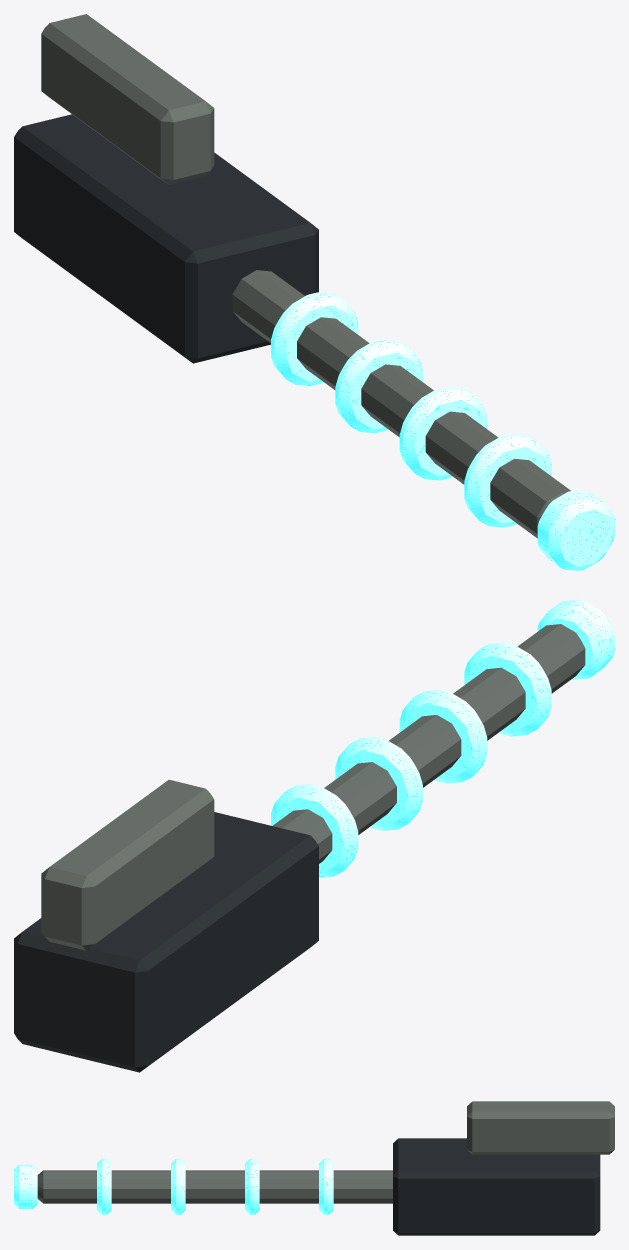
Rendered from Gun_PulseLaser.fbx.
The picture shows the model from 3 angles, top to bottom: view 1: azimuth 30°, elevation 25°; view 2: azimuth 150°, elevation 25°; view 3: azimuth 270°, elevation 25°; orthographic projection. The views are drawn at different scales.
Parts seen in each view (by area): view 1: Gun_PulseLaser; view 2: Gun_PulseLaser; view 3: Gun_PulseLaser.
Part boxes in pixels (<box>): Gun_PulseLaser: <box>14,14,614,570</box>; Gun_PulseLaser: <box>14,599,614,1072</box>; Gun_PulseLaser: <box>14,1101,614,1235</box>.
Size of the model in its own units: 0.3 by 0.42 by 2.03.
